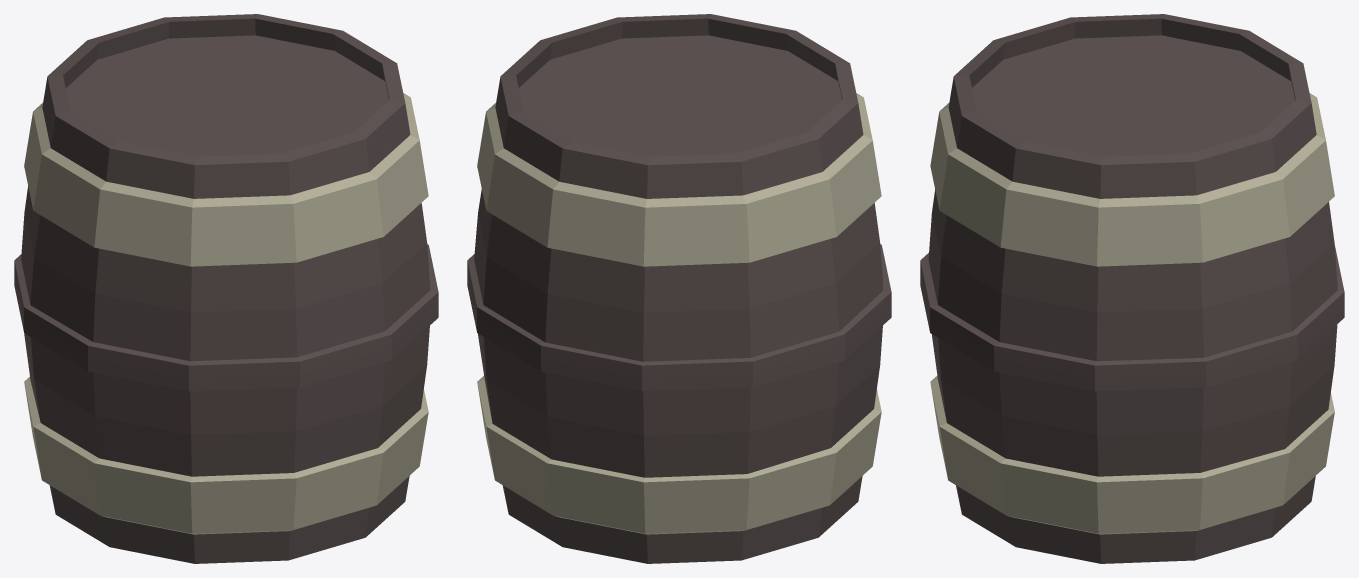
File: barrel.fbx
3 renders of one model, left to right at view 1: azimuth 30°, elevation 25°; view 2: azimuth 150°, elevation 25°; view 3: azimuth 270°, elevation 25°, orthographic.
Visible parts, largest first — view 1: ABarrel001; view 2: ABarrel001; view 3: ABarrel001.
Boxes of the visible parts, x1,y1,x2,y2 form: ABarrel001: (14,14,438,563); ABarrel001: (467,14,891,563); ABarrel001: (920,14,1344,563).
Size of the model in its own units: 74.94 by 78.46 by 74.94.
